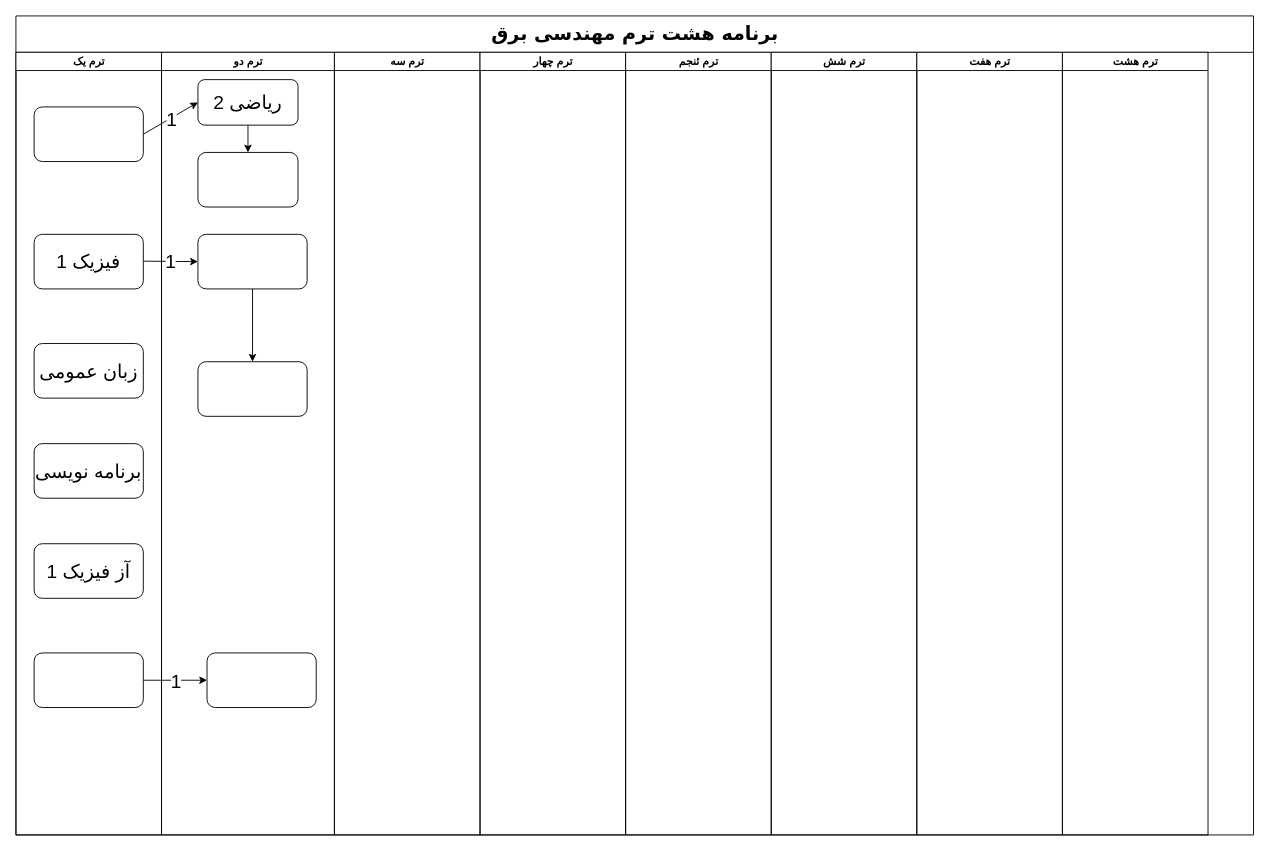
Some shapes in this 1269 by 851 pixel diagram are drawn without their labels. Here are the shapes that lost their labels. From the top down, the centre of each, then its label:
At [88,134]: "ریاضی 1".
At [247,179]: "معادلات دیفرانسیل".
At [252,261]: "فیزیک 2".
At [252,388]: "آز فیزیک 2".
At [88,680]: "کارگاه عمومی".
At [261,680]: "کارگاه برق".
